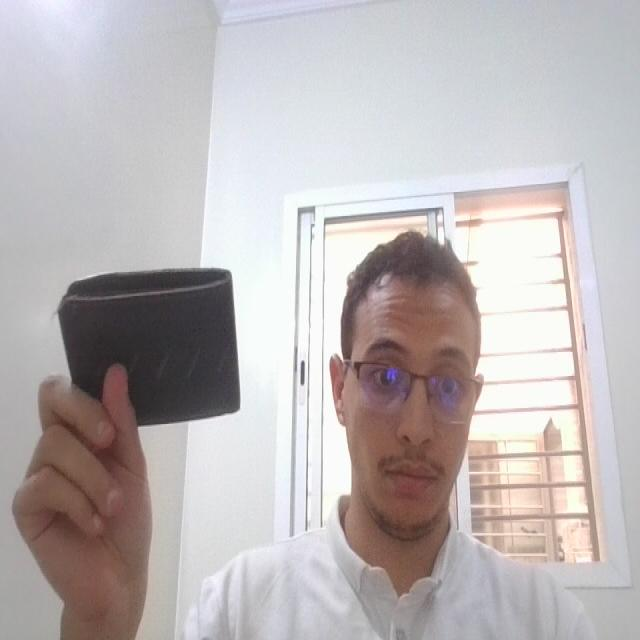wallet: (56, 267, 250, 428)
